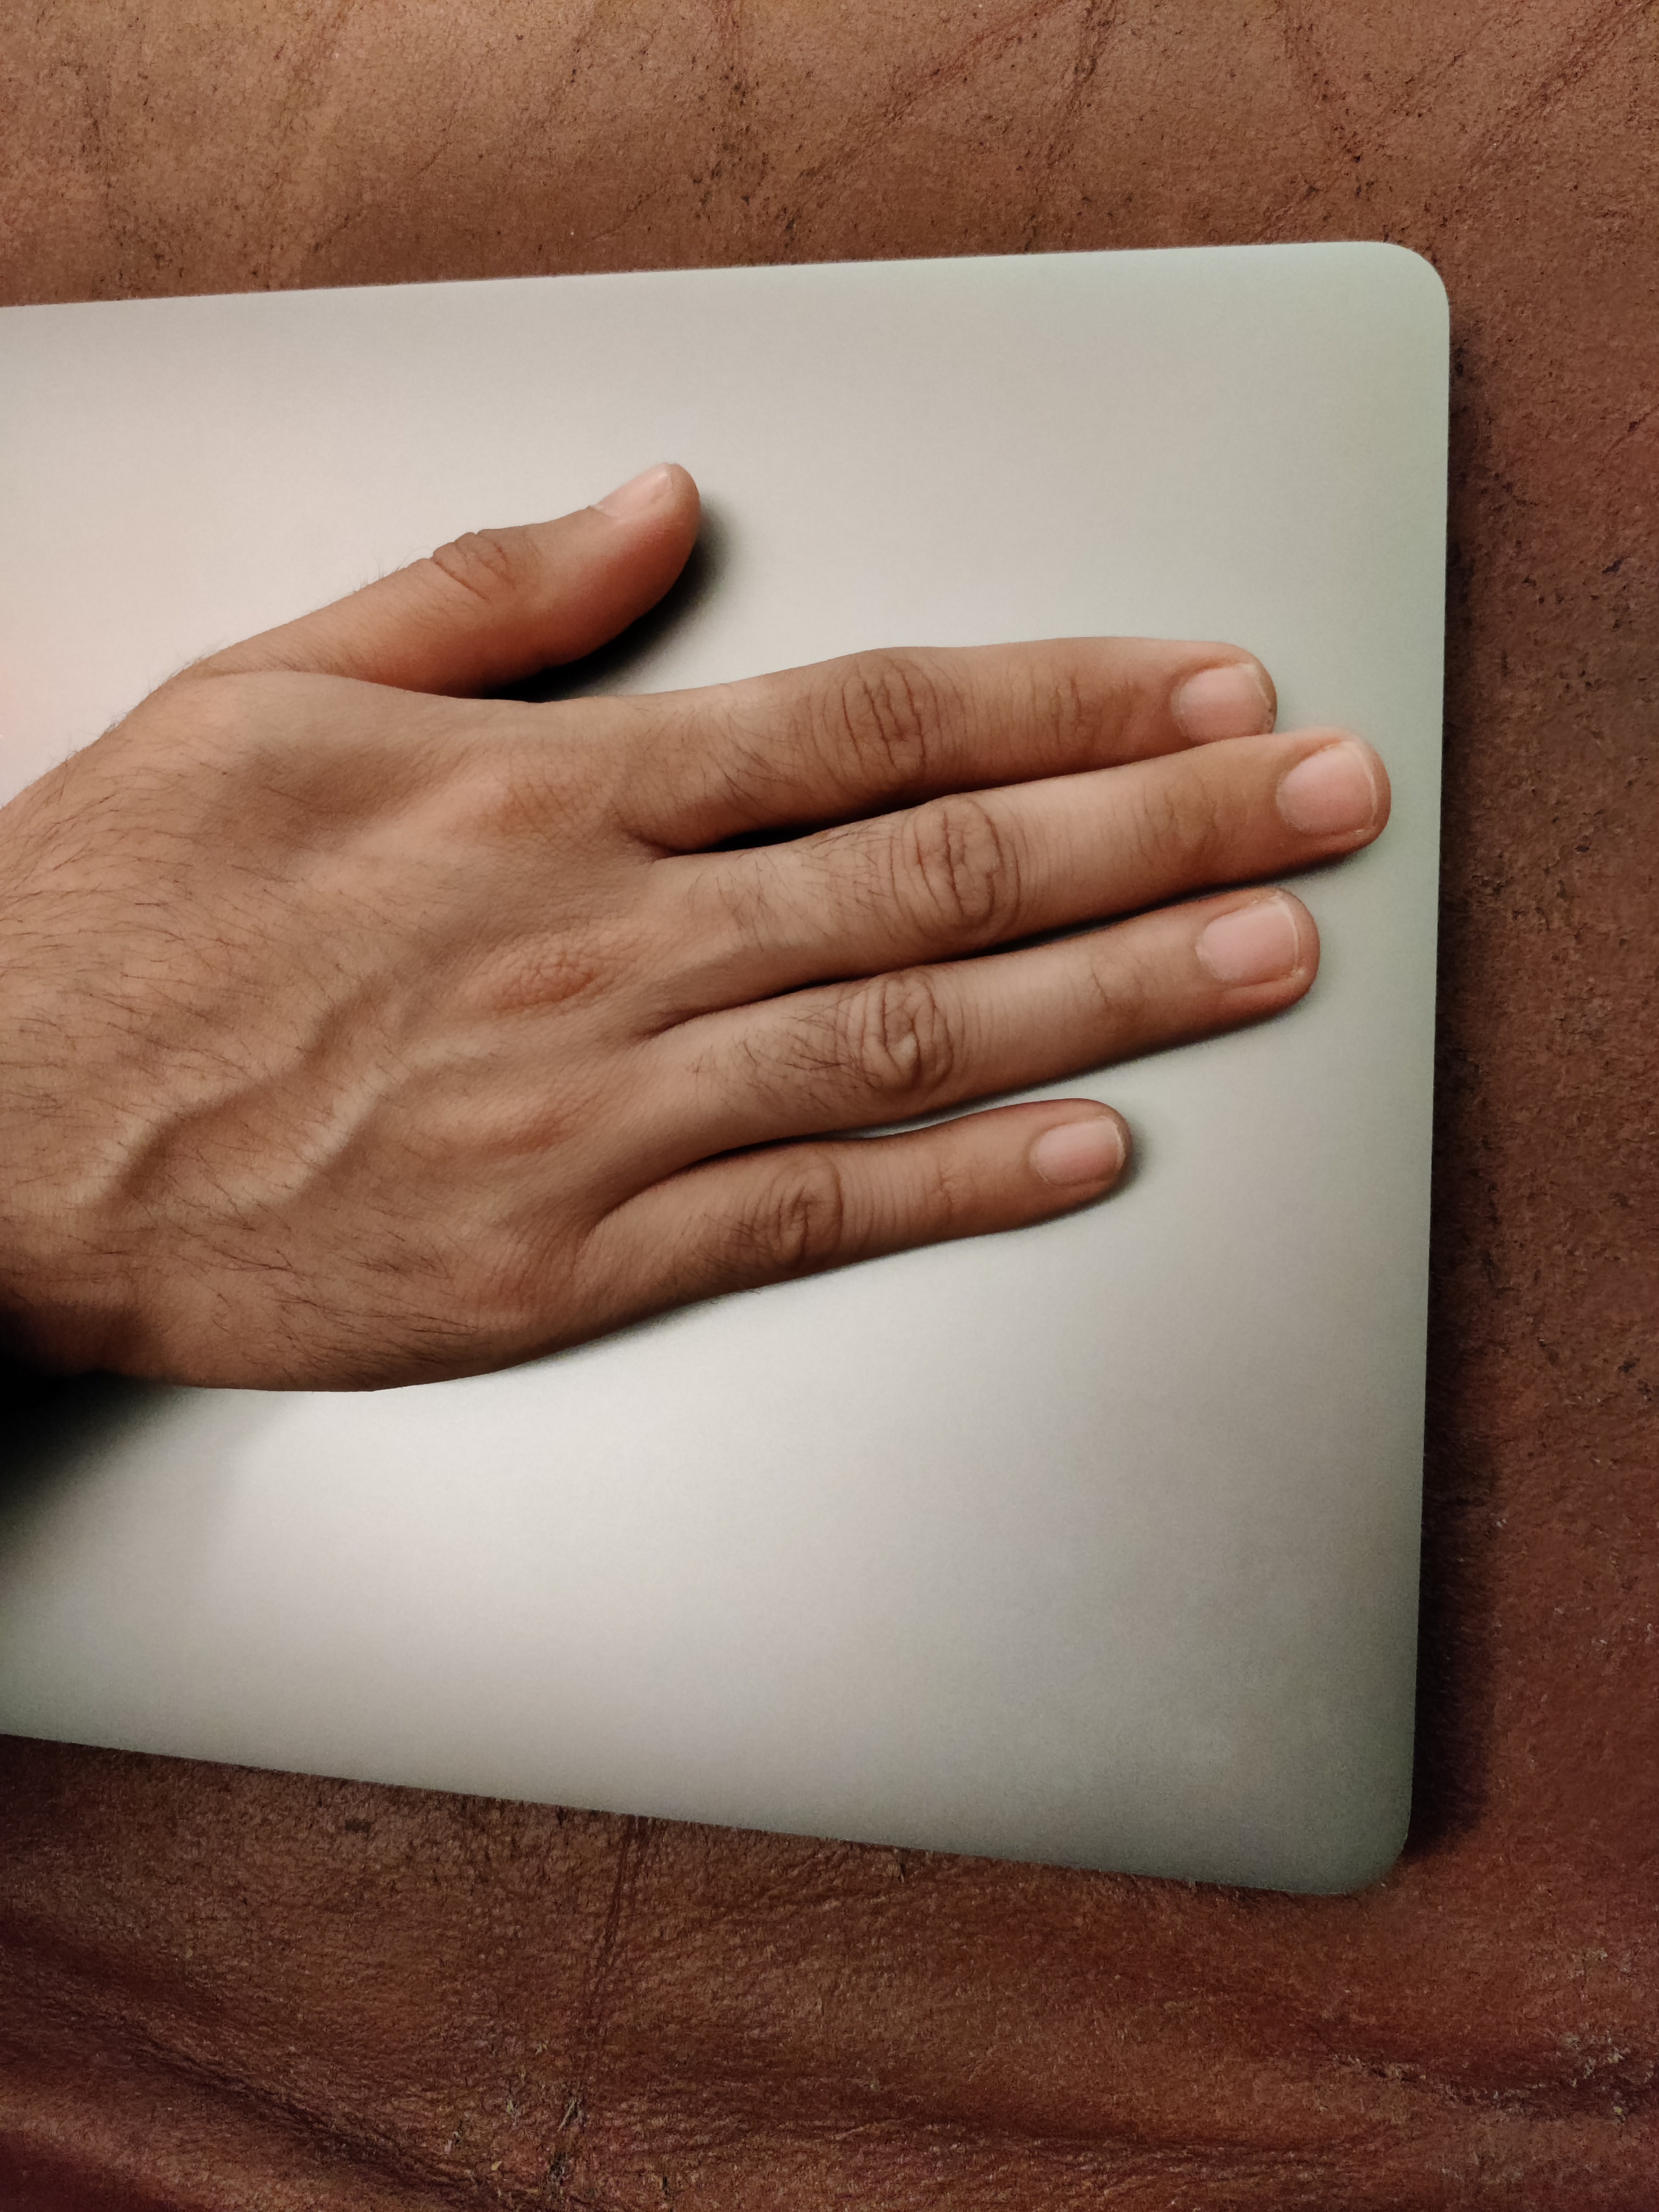left: (17, 221, 1551, 1580)
